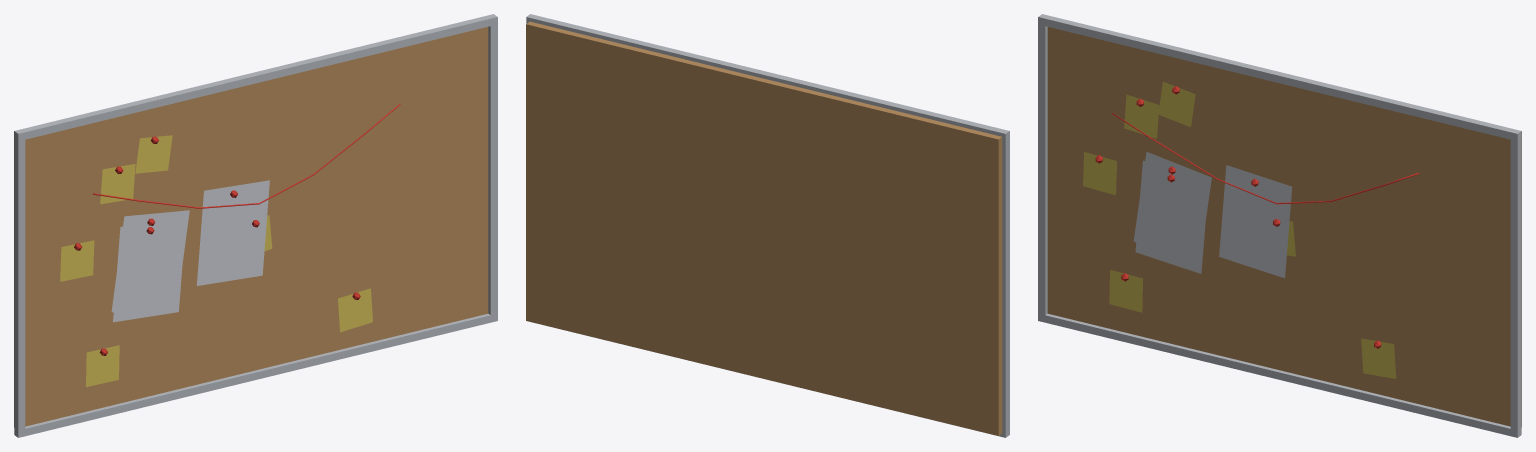
File: Deco_CorkBoard.gltf
3 renders of one model, left to right at view 1: azimuth 30°, elevation 25°; view 2: azimuth 150°, elevation 25°; view 3: azimuth 330°, elevation 25°, orthographic.
Visible parts, largest first — view 1: Deco_CorkBoard; view 2: Deco_CorkBoard; view 3: Deco_CorkBoard.
Part boxes in pixels (x1,y1,x2,y2): Deco_CorkBoard: (14,14,497,437); Deco_CorkBoard: (526,14,1009,437); Deco_CorkBoard: (1038,14,1521,437).
Bounding box in the file's own units: 1.01 × 0.615 × 0.0345.
